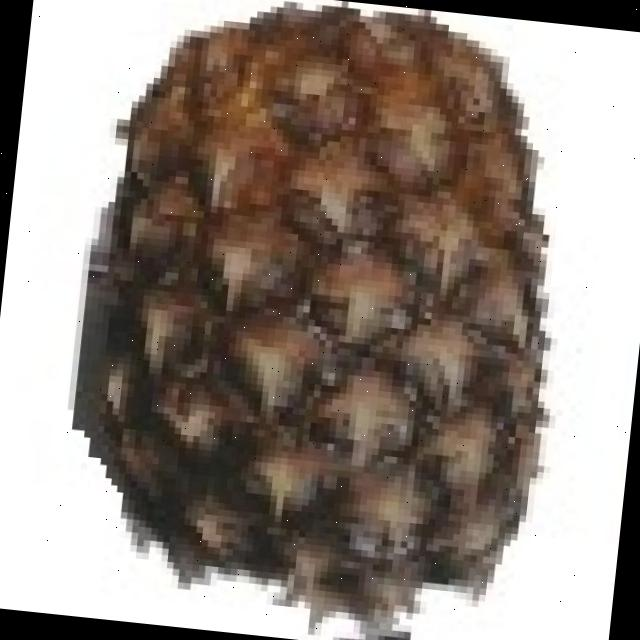pineapple: (92, 1, 555, 599)
